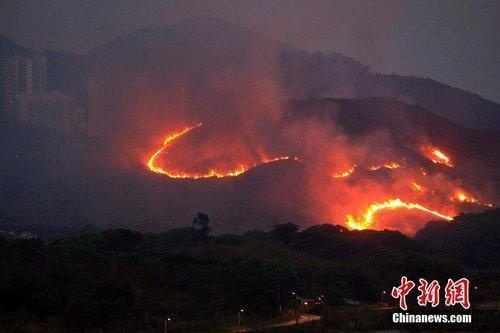fire: (143, 125, 307, 177), (341, 193, 481, 226)
